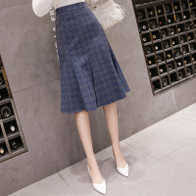C_skirt: (49, 2, 132, 116)
